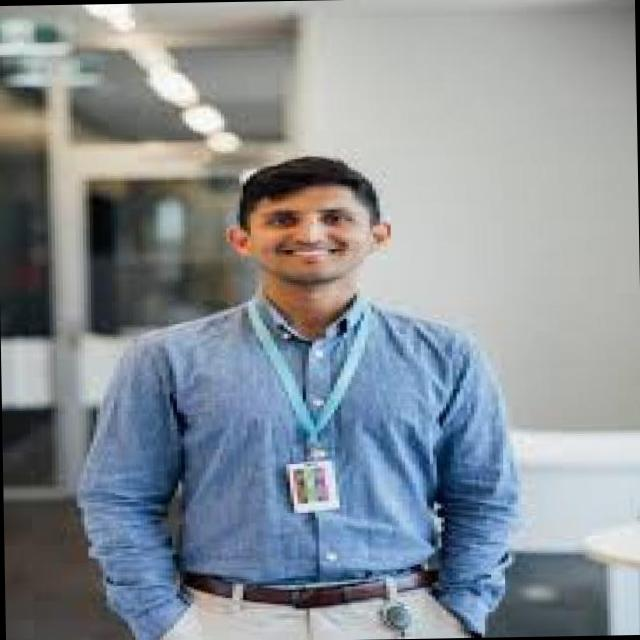id_card: (250, 291, 368, 518)
